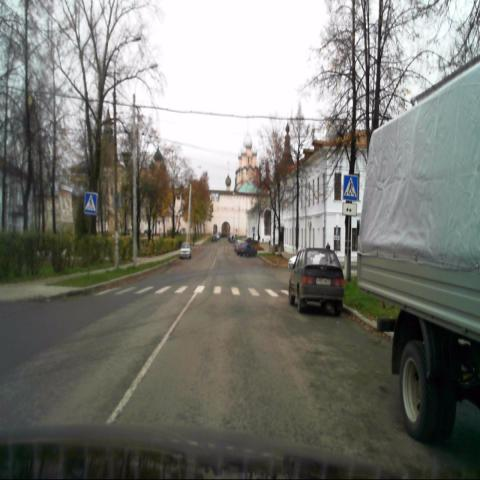8_15: (342, 202, 357, 217)
